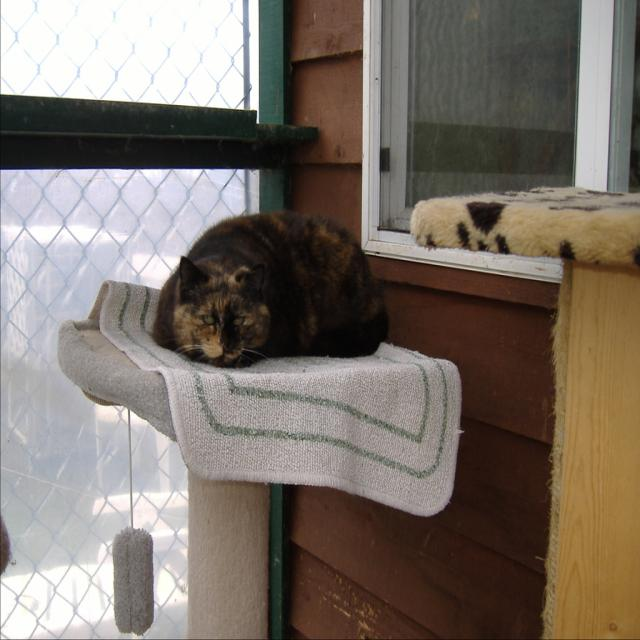Cat: (150, 208, 392, 370)
